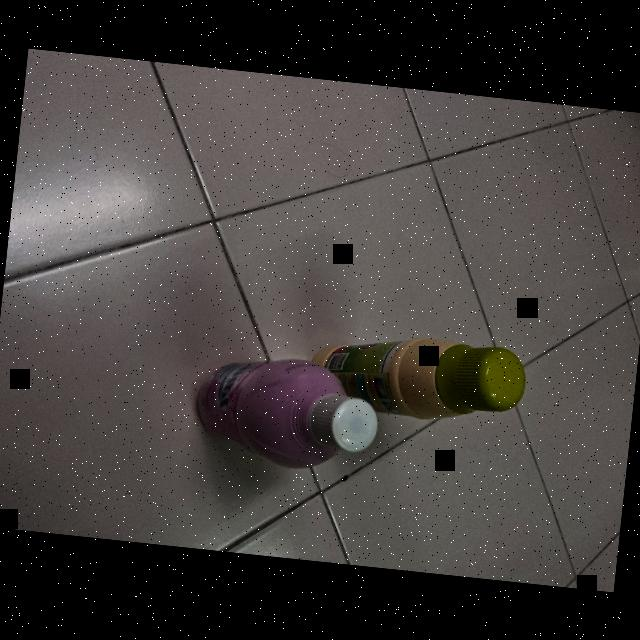chemical_plastic_bottle: (182, 348, 384, 478)
